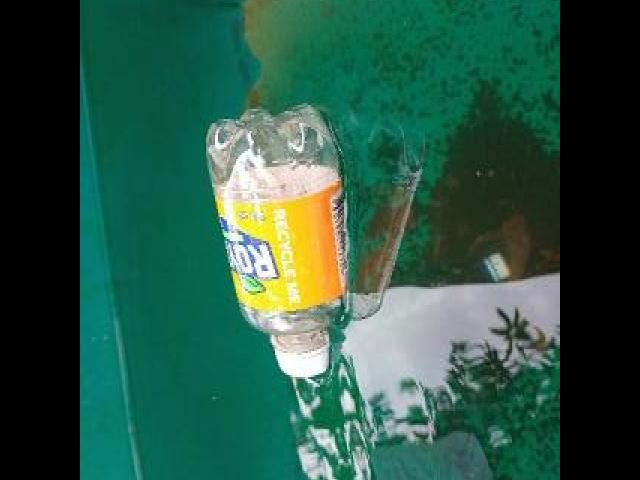Bottle: (202, 95, 354, 382)
